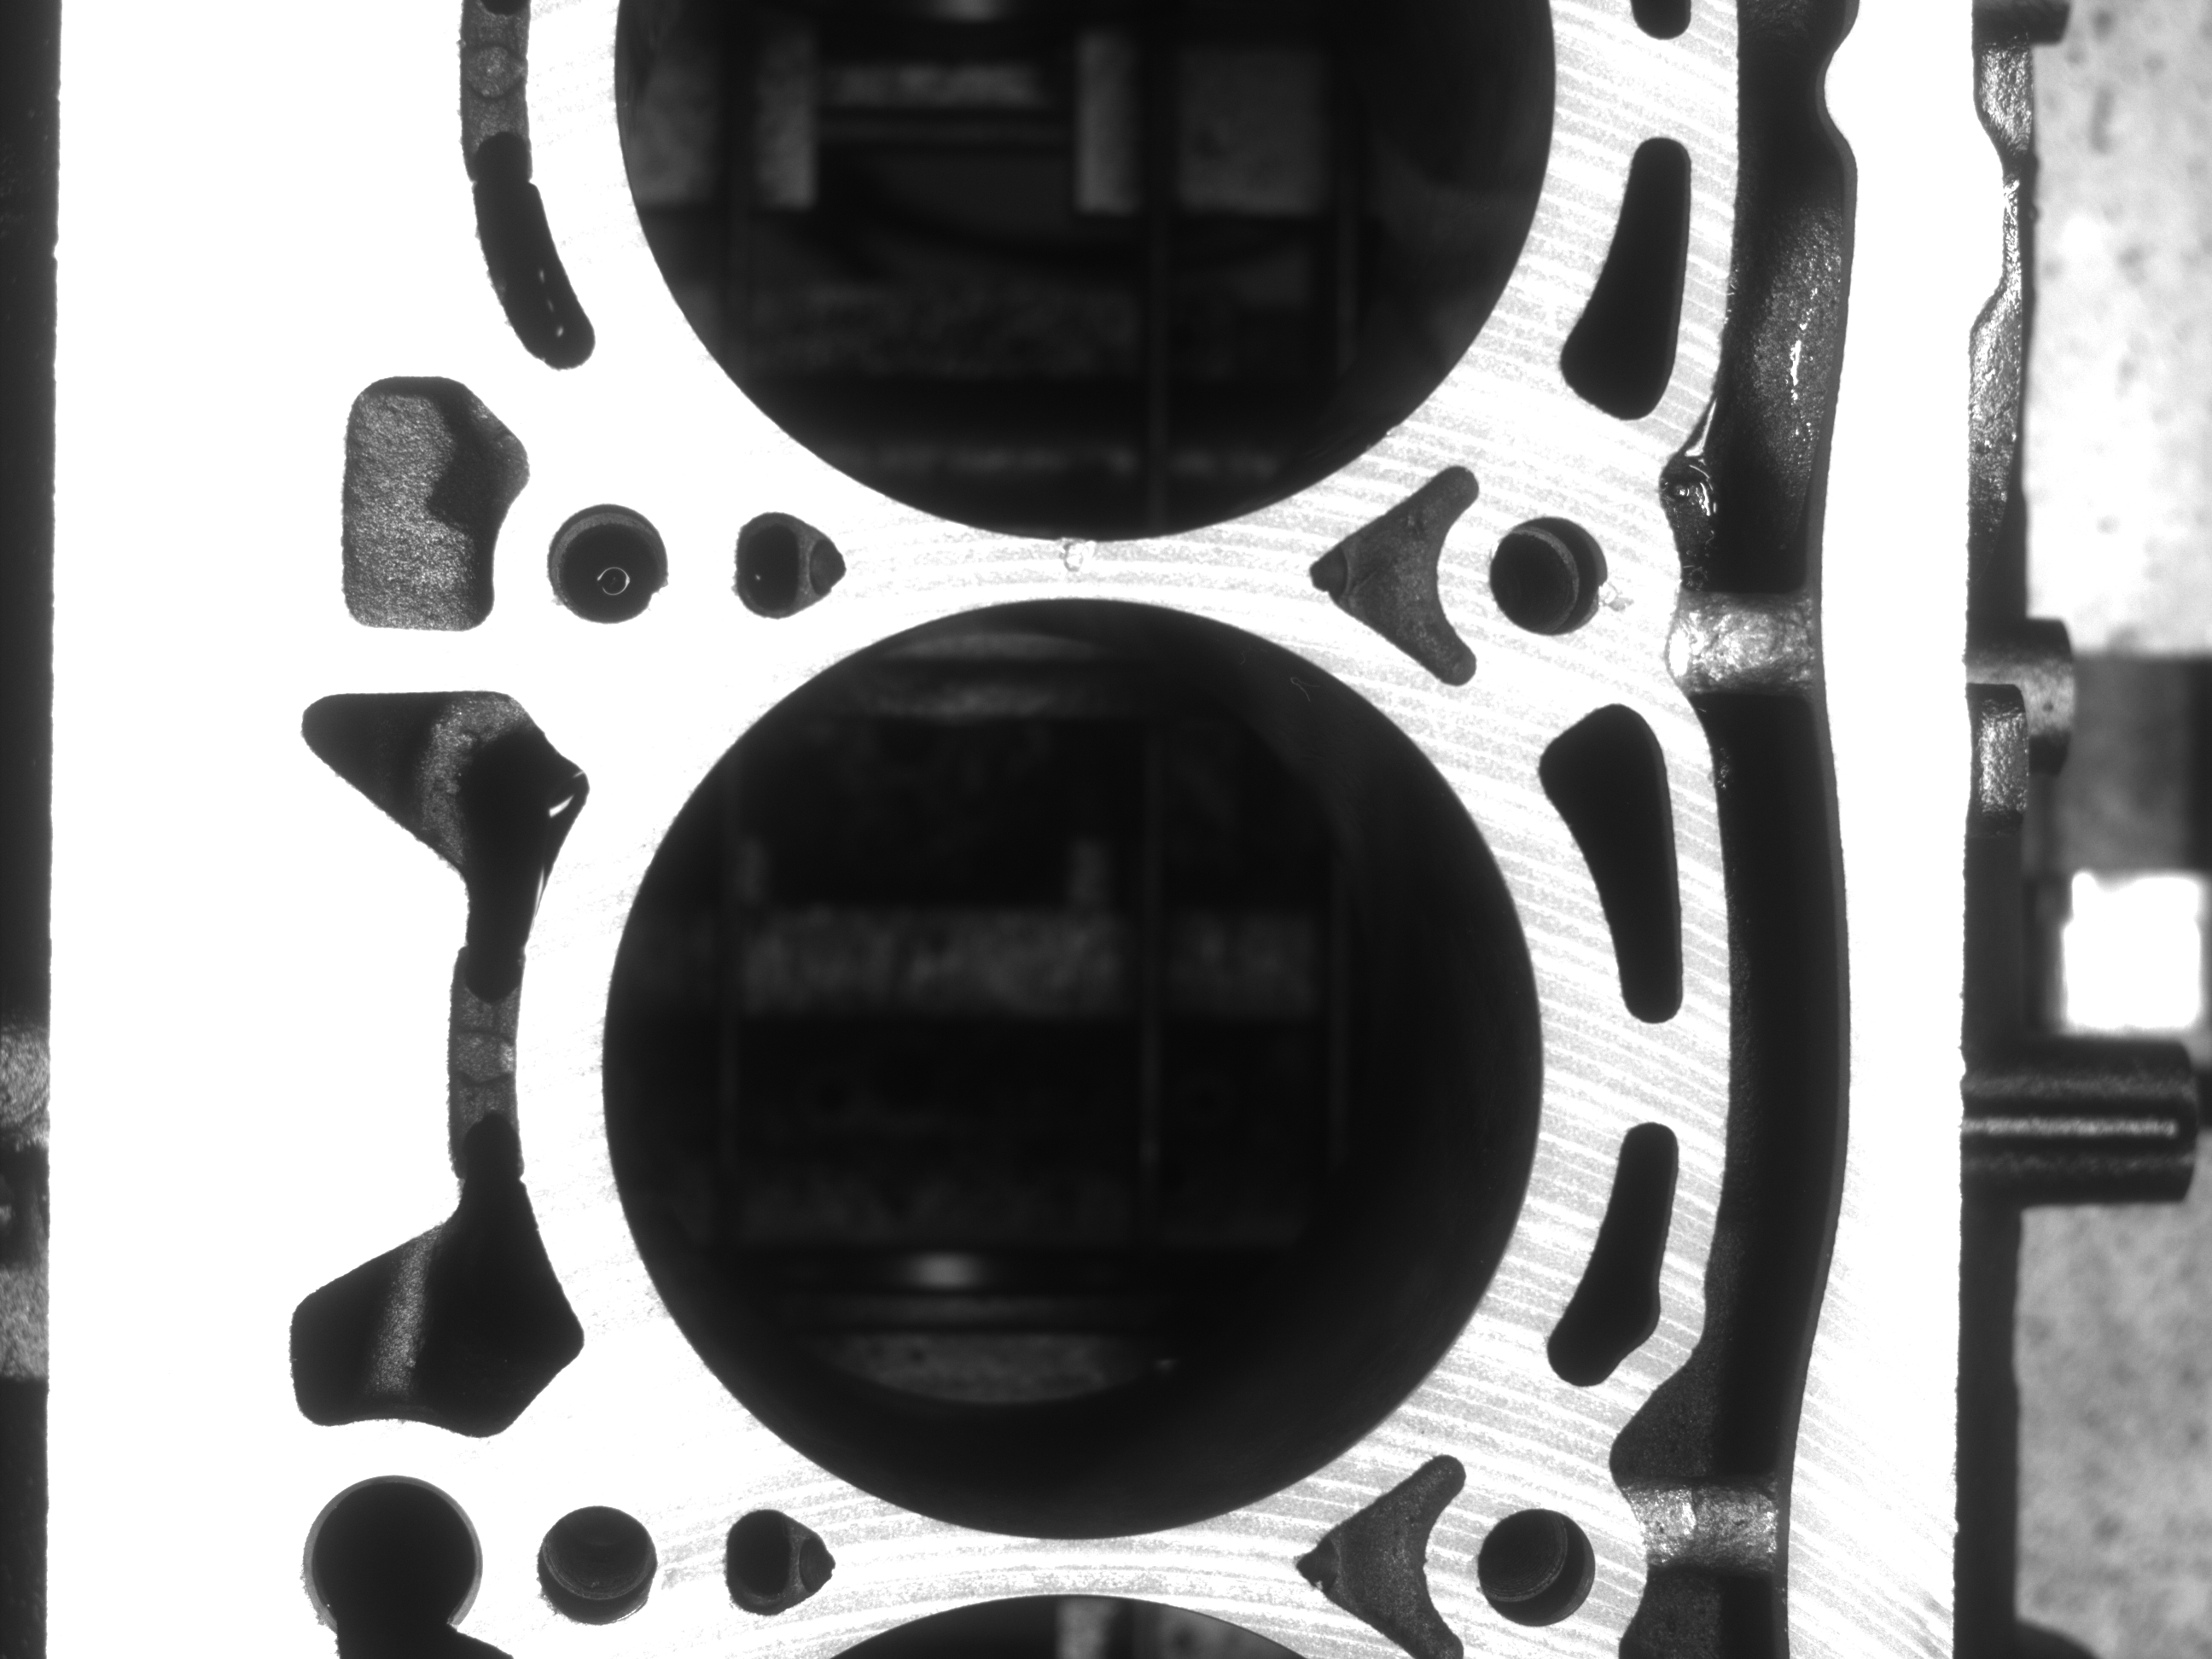sandhole: (1597, 563, 1642, 613), (1054, 535, 1096, 577)
